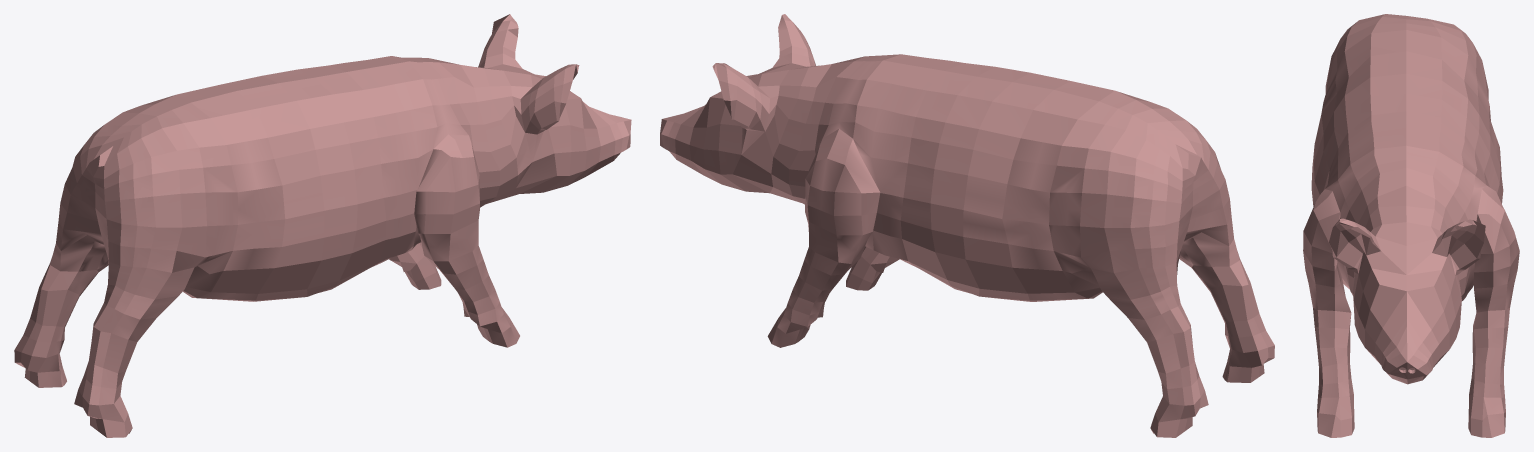
The model's file is lowpoly_pig_v2_12122019.fbx.
3 views of the same model, side by side, from view 1: azimuth 30°, elevation 25°; view 2: azimuth 150°, elevation 25°; view 3: azimuth 270°, elevation 25° (orthographic). The views are drawn at different scales.
Parts seen in each view (by area): view 1: Pig; view 2: Pig; view 3: Pig.
Boxes of the visible parts, x1=… form: Pig: x1=14, y1=14, x2=631, y2=437; Pig: x1=660, y1=14, x2=1274, y2=437; Pig: x1=1303, y1=14, x2=1519, y2=437.
Bounding box in the file's own units: 195 × 90.66 × 64.4.
